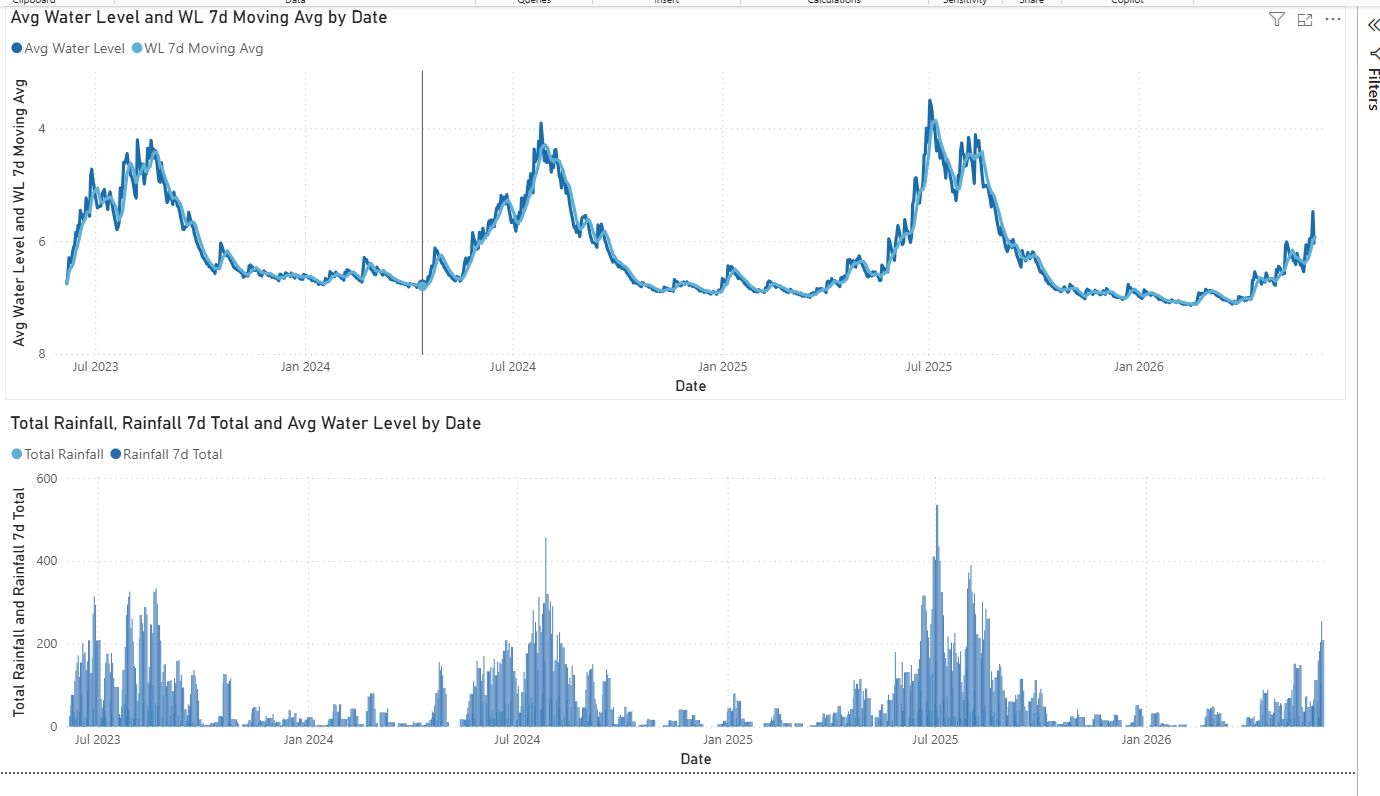

Layout of this report page (visuals, bound fields, positions):
{"tool":"powerbi","page":{"name":"Groundwater Trend Analysis","canvas":[1280,720],"ordinal":1},"visuals":[{"type":"lineChart","fields":{"Category":["Date.Date"],"Y":["_Measures.Avg Water Level","_Measures.WL 7d Moving Avg"]},"box":[9.6,0,1260.3,370.3],"z":0},{"type":"clusteredColumnChart","fields":{"Category":["Date.Date"],"Y":["_Measures.Total Rainfall","_Measures.Rainfall 7d Total"]},"box":[9.6,381.1,1269.9,338.9],"z":1}]}

Visuals, with their boxes on the page's 1280x720 design canvas (x1, y1, x2, y2). These are canvas units, not pixel positions in the 1380x796 screenshot, which may show the page scaled, cropped or inside an application window:
lineChart - Date.Date x _Measures.Avg Water Level: <bbox>10, 0, 1270, 370</bbox>
clusteredColumnChart - Date.Date x _Measures.Total Rainfall: <bbox>10, 381, 1280, 720</bbox>
